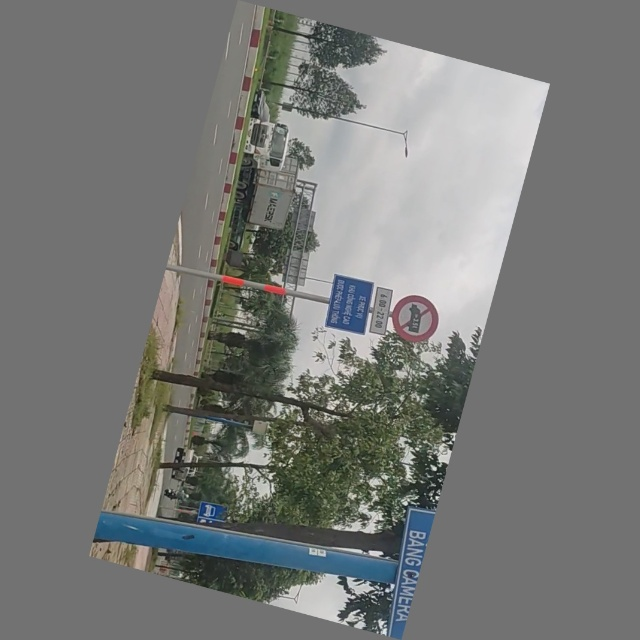P.106a*Xe tai: (387, 290, 445, 346)
